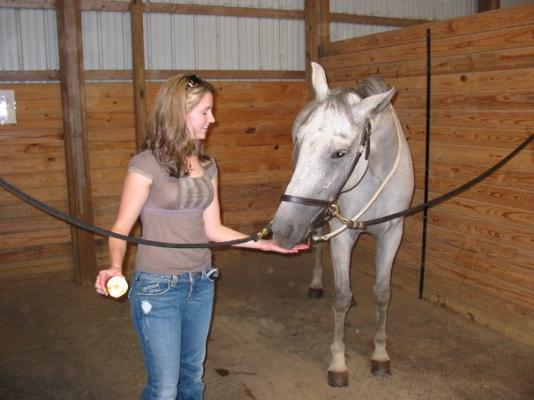person: (98, 72, 307, 400)
